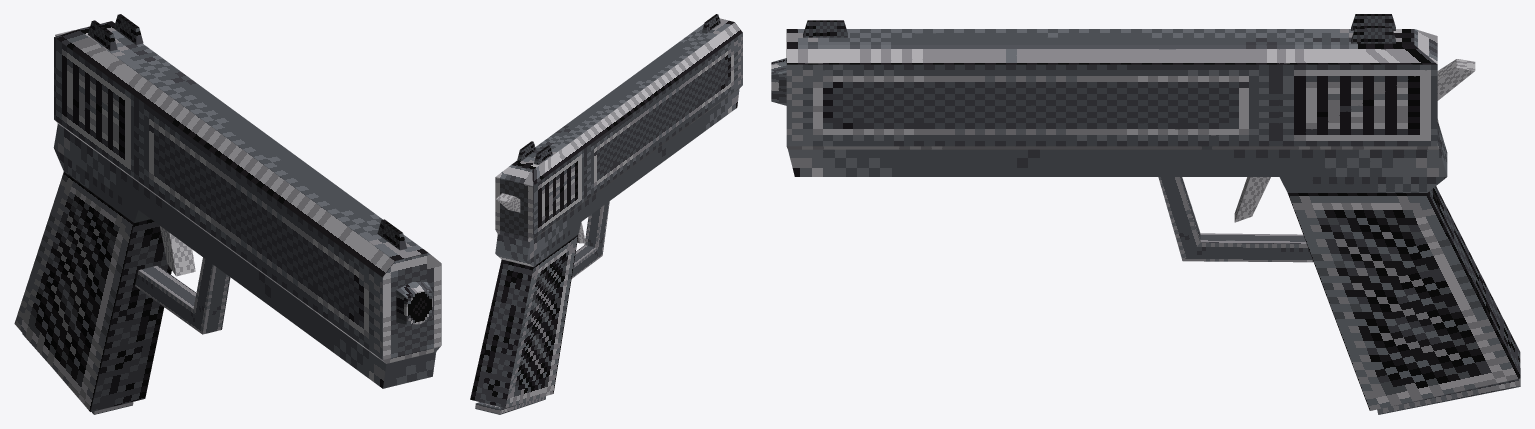
Rendered from pistol.fbx.
3 views of the same model, side by side, from view 1: azimuth 30°, elevation 25°; view 2: azimuth 150°, elevation 25°; view 3: azimuth 270°, elevation 25° (orthographic). The views are drawn at different scales.
Parts seen in each view (by area): view 1: pistol; view 2: pistol; view 3: pistol.
Boxes of the visible parts, x1,y1,x2,y2 form: pistol: [14, 14, 441, 414]; pistol: [470, 14, 742, 414]; pistol: [771, 14, 1520, 414].
Size of the model in its own units: 0.0212 by 0.1331 by 0.2352.
Materials: 1 (1 with a texture image).
